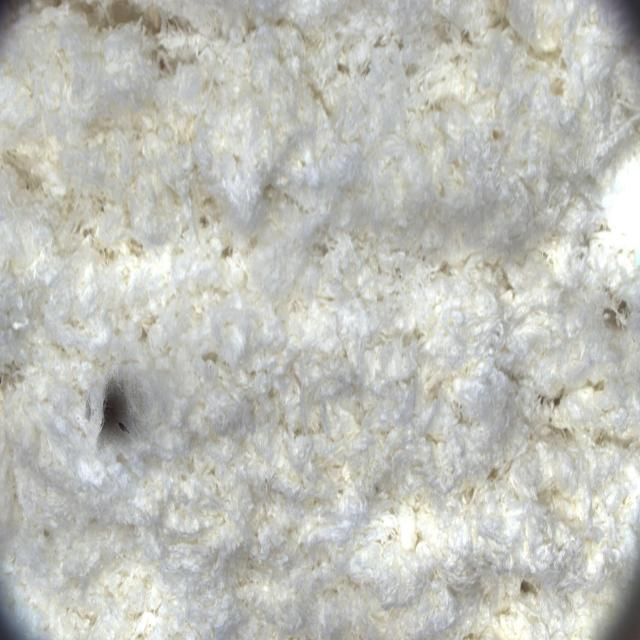dust: (66, 345, 172, 475)
